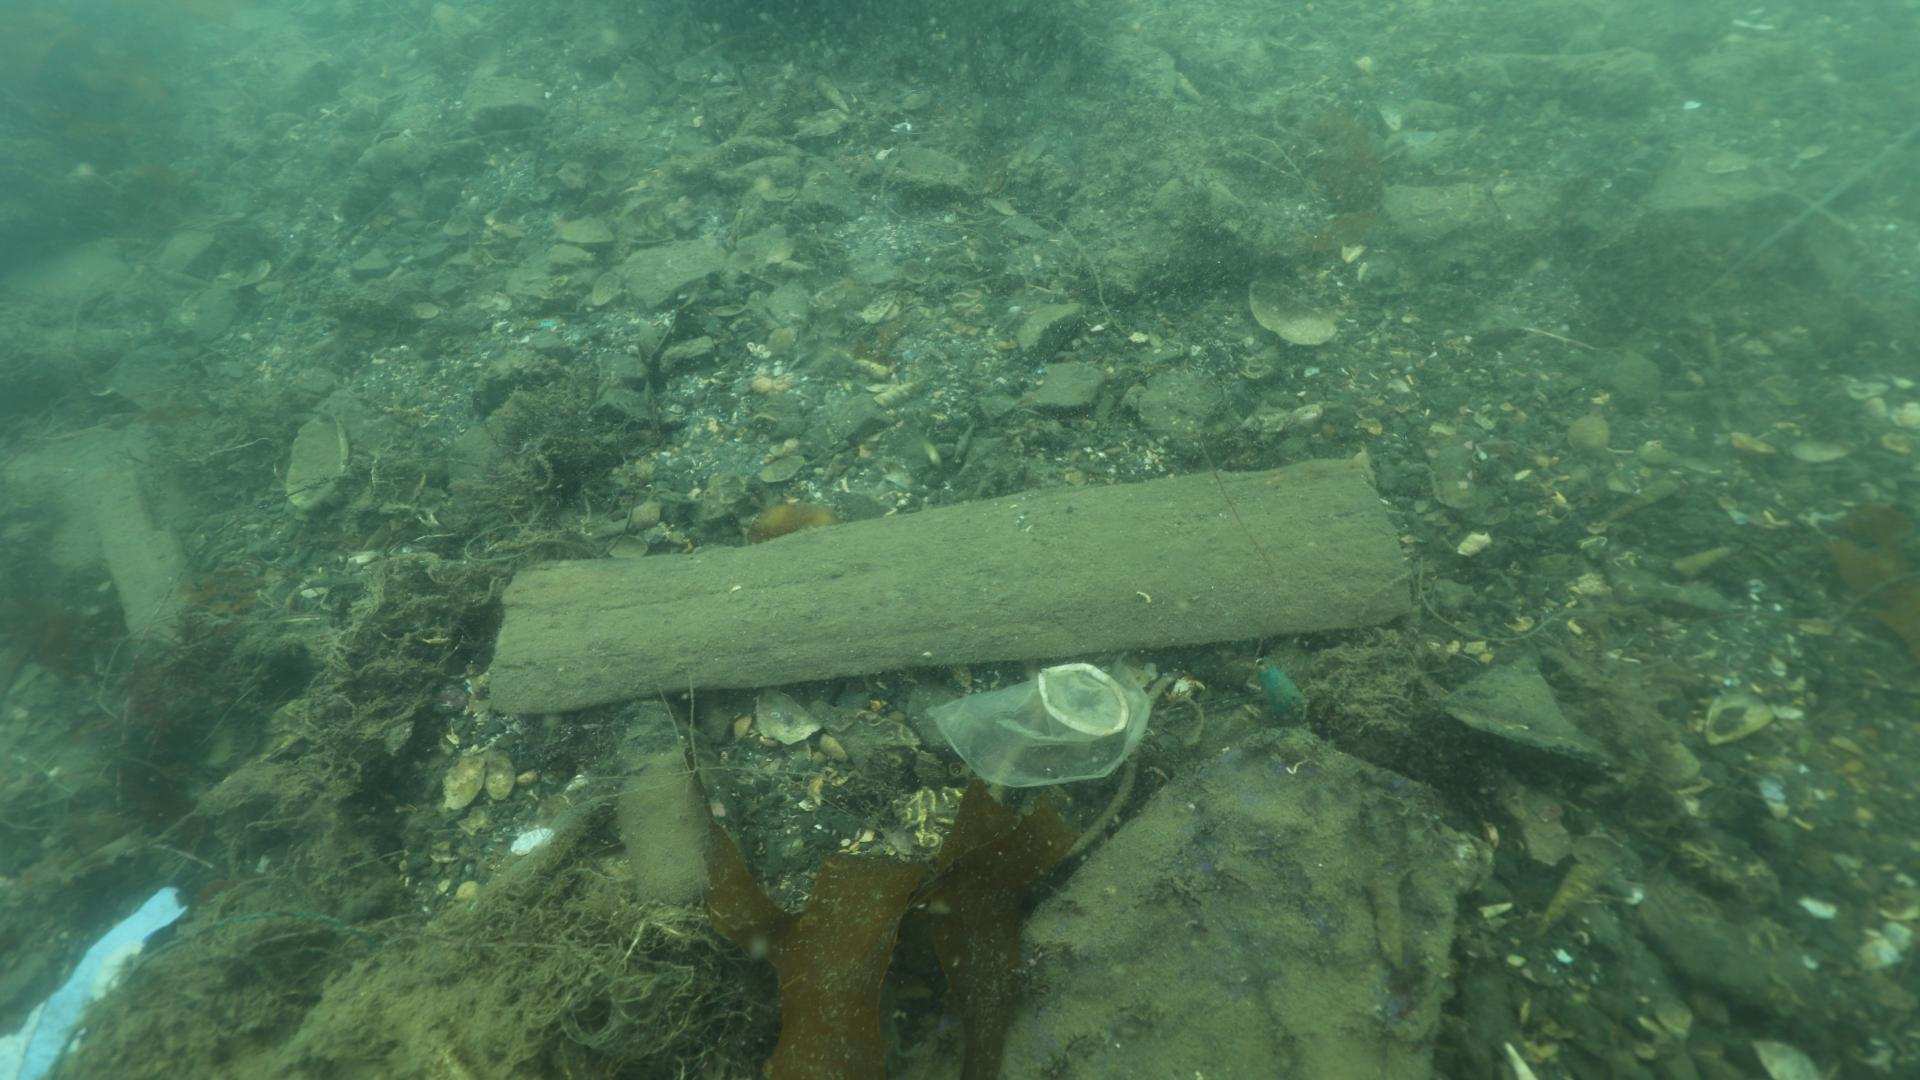wood: (485, 443, 1424, 717)
